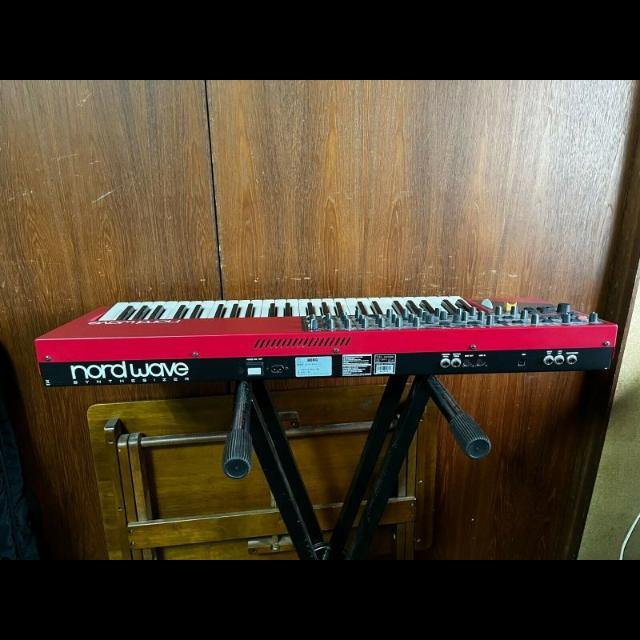Electronic-Keyboard: (30, 280, 618, 392)
